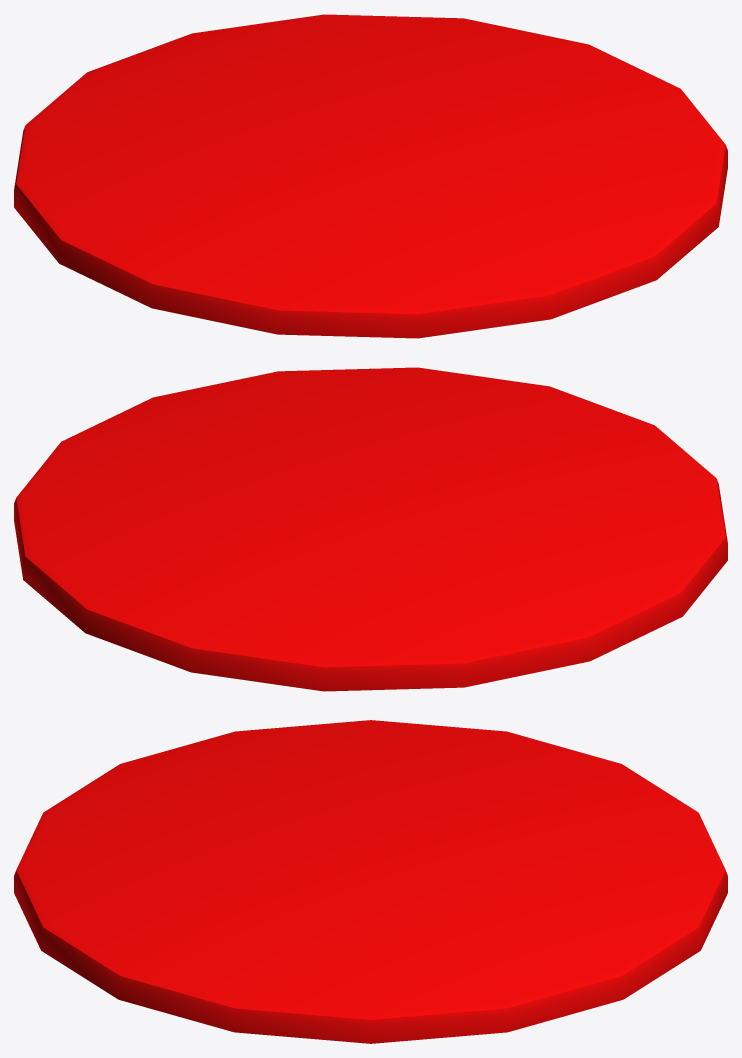
The model's file is part_3_props_mesh_03.fbx.
The picture shows the model from 3 angles, top to bottom: view 1: azimuth 30°, elevation 25°; view 2: azimuth 150°, elevation 25°; view 3: azimuth 270°, elevation 25°; orthographic projection.
Visible parts, largest first — view 1: part_3_props_mesh_03; view 2: part_3_props_mesh_03; view 3: part_3_props_mesh_03.
Boxes of the visible parts, x1,y1,x2,y2 form: part_3_props_mesh_03: (14,14,727,338); part_3_props_mesh_03: (14,367,727,691); part_3_props_mesh_03: (14,720,727,1043).
Bounding box in the file's own units: 7.06 × 0.2734 × 7.06.
